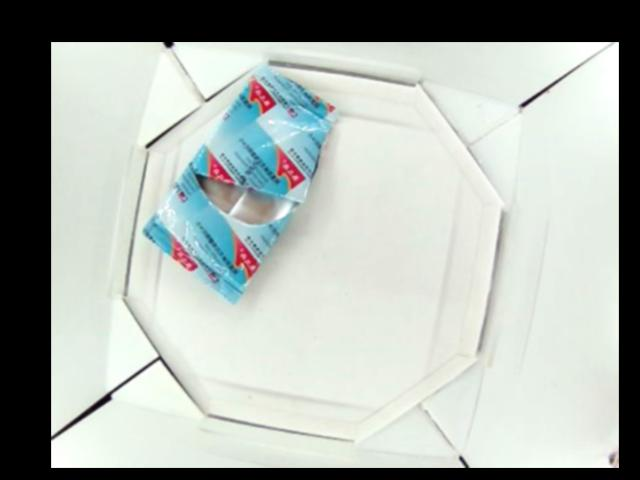Medicine: (140, 68, 335, 307)
